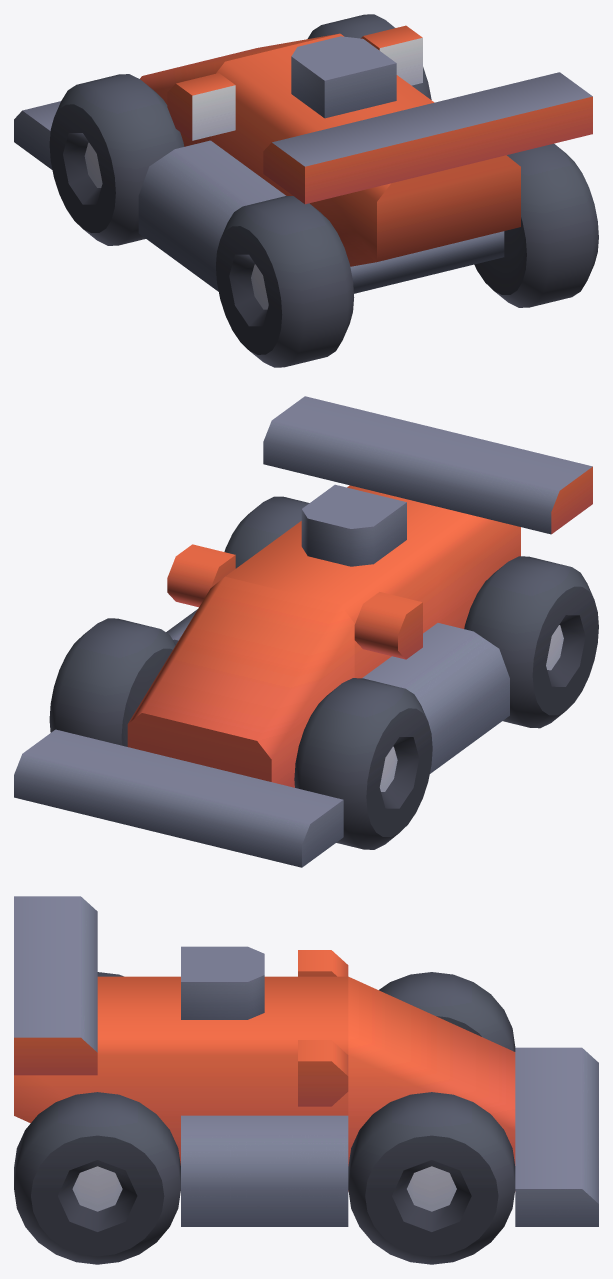
File: vehicle-speedster.glb
3 views of the same model, one above another, from view 1: azimuth 30°, elevation 25°; view 2: azimuth 150°, elevation 25°; view 3: azimuth 270°, elevation 25° (orthographic).
Visible parts, largest first — view 1: vehicle-speedster; view 2: vehicle-speedster; view 3: vehicle-speedster.
Part boxes in pixels (box(x1,y1,x2,y2)): vehicle-speedster: box(14, 14, 598, 367); vehicle-speedster: box(14, 396, 598, 867); vehicle-speedster: box(14, 896, 598, 1264).
Bounding box in the file's own units: 0.55 × 0.375 × 0.875.
1 material, 1 textured.
